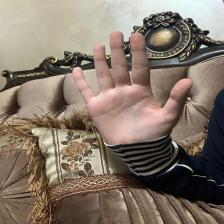five: (68, 27, 197, 174)
